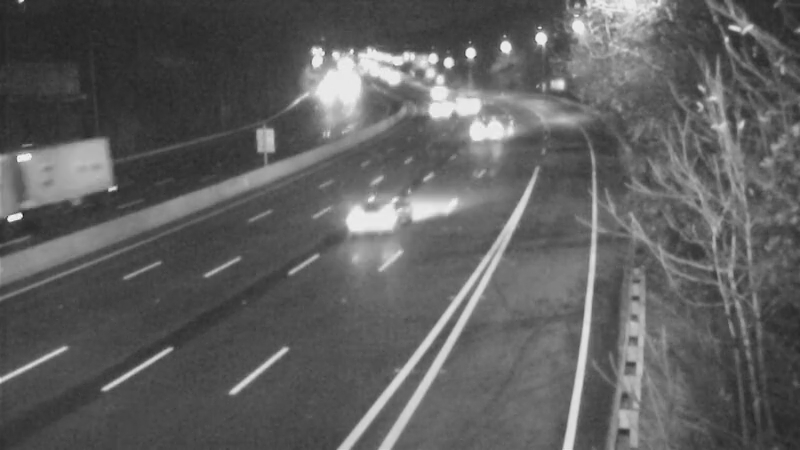vehicle: (334, 180, 414, 260), (1, 158, 74, 238), (414, 65, 464, 115), (442, 80, 492, 130), (406, 83, 456, 133), (448, 107, 498, 157)
